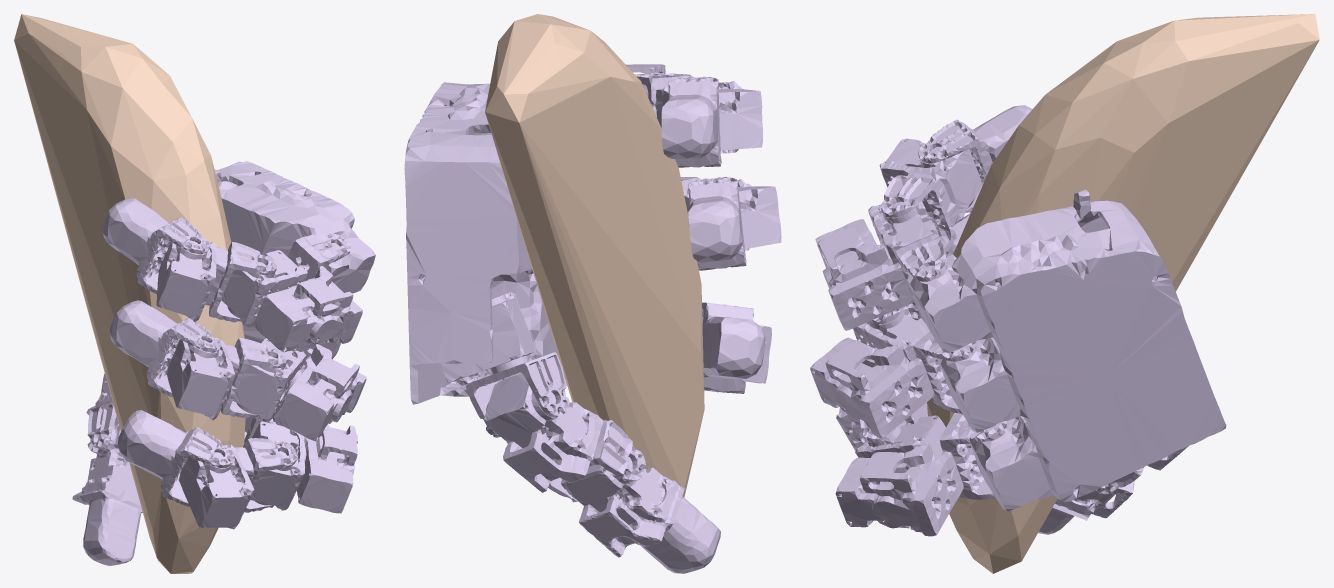
The model's file is facc9f429c3e8e-final.glb.
The picture shows the model from 3 angles, left to right: view 1: azimuth 30°, elevation 25°; view 2: azimuth 150°, elevation 25°; view 3: azimuth 270°, elevation 25°; orthographic projection. The views are drawn at different scales.
Visible parts, largest first — view 1: LEAP_hand, world; view 2: LEAP_hand, world; view 3: LEAP_hand, world.
Boxes of the visible parts, box(x1,y1,x2,y2) form: LEAP_hand: box(72, 161, 375, 565); world: box(14, 14, 245, 573); LEAP_hand: box(404, 64, 781, 573); world: box(485, 14, 704, 544); LEAP_hand: box(810, 105, 1226, 536); world: box(927, 14, 1319, 573).
Bounding box in the file's own units: 0.1414 × 0.2624 × 0.2209.
